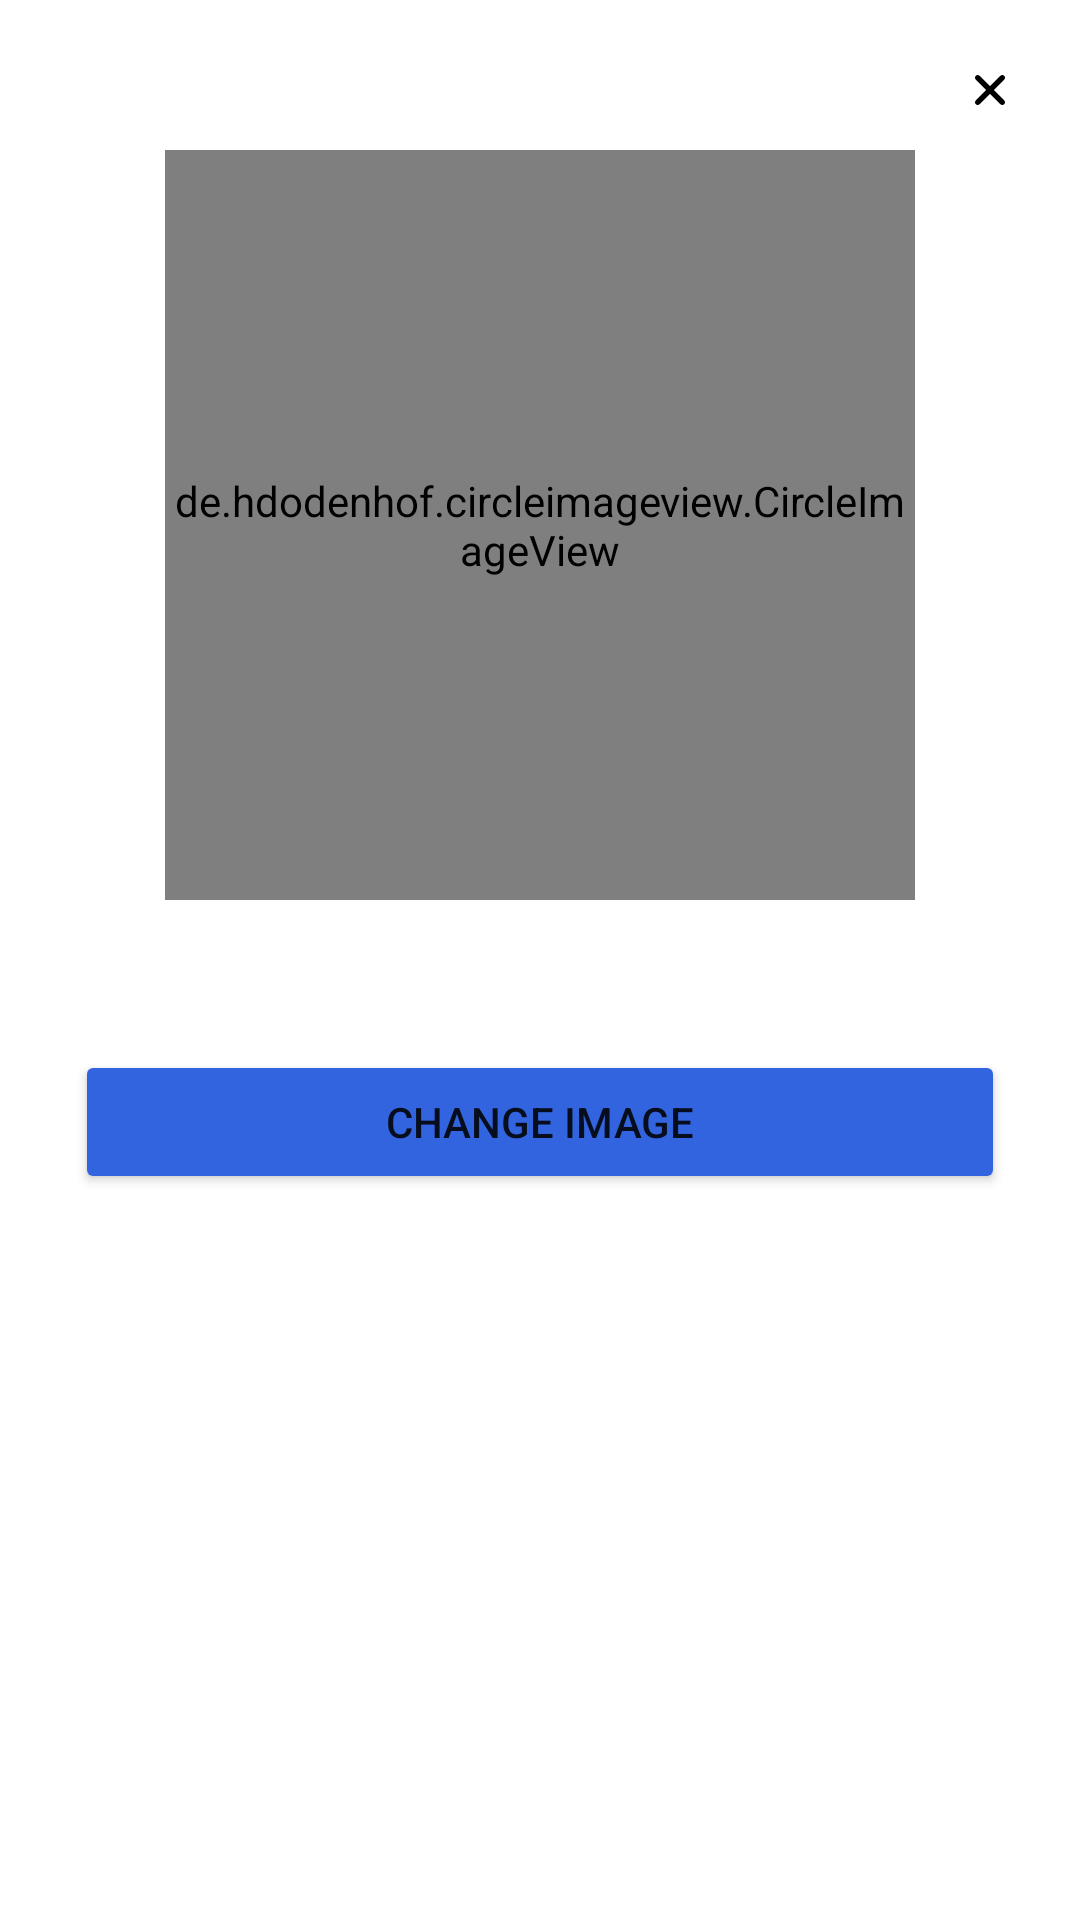

Named icons in this screenshot (1080×1920) and their centers, (x,y):
exit: (990,90)
